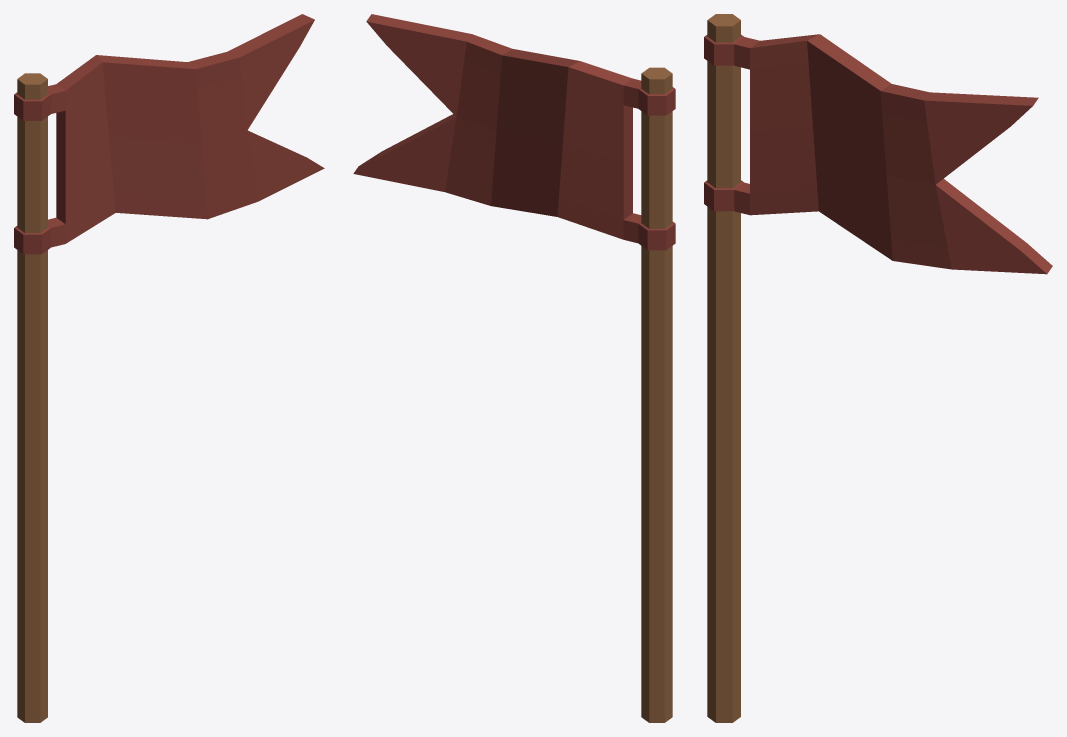
Rendered from Flag.glb.
3 views of the same model, side by side, from view 1: azimuth 30°, elevation 25°; view 2: azimuth 150°, elevation 25°; view 3: azimuth 330°, elevation 25° (orthographic). The views are drawn at different scales.
Visible parts, largest first — view 1: Flag; view 2: Flag; view 3: Flag.
Boxes of the visible parts, x1,y1,x2,y2 form: Flag: (14,14,324,722); Flag: (353,14,675,722); Flag: (704,14,1052,722).
Bounding box in the file's own units: 2.05 × 4.06 × 0.2778.
